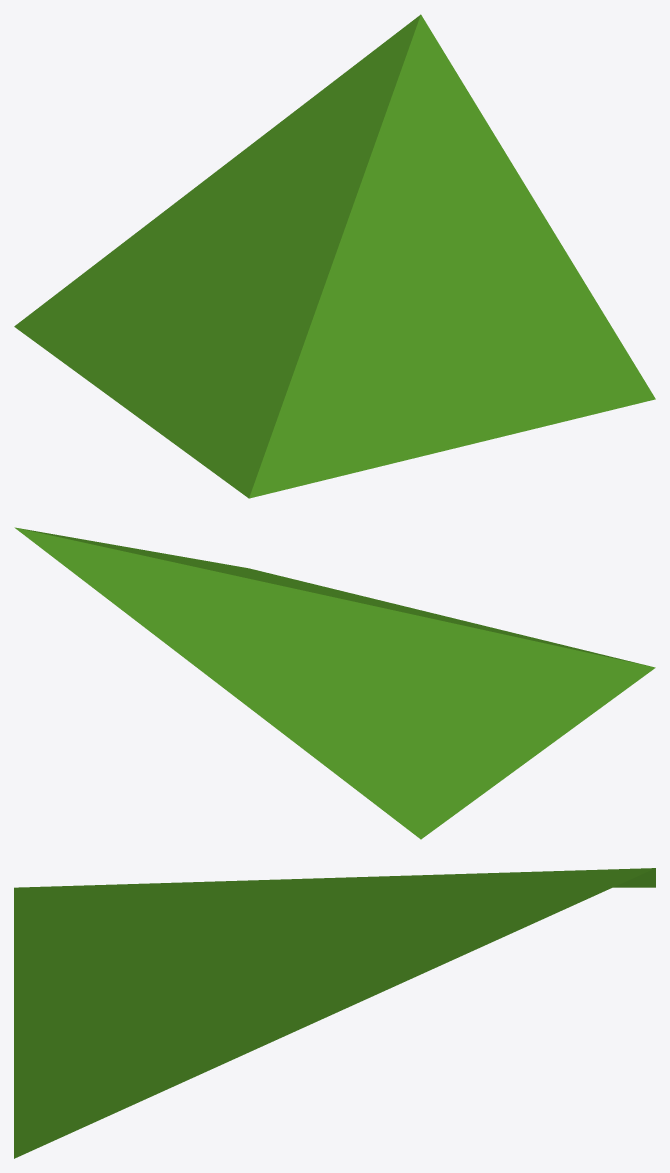
The model's file is slope2.glb.
3 views of the same model, one above another, from view 1: azimuth 30°, elevation 25°; view 2: azimuth 150°, elevation 25°; view 3: azimuth 270°, elevation 25° (orthographic). The views are drawn at different scales.
Visible parts, largest first — view 1: Cube.002; view 2: Cube.002; view 3: Cube.002.
Boxes of the visible parts, box(x1,y1,x2,y2) form: Cube.002: box(14, 14, 655, 498); Cube.002: box(14, 527, 655, 839); Cube.002: box(14, 868, 655, 1158).
Size of the model in its own units: 4 by 2 by 4.
